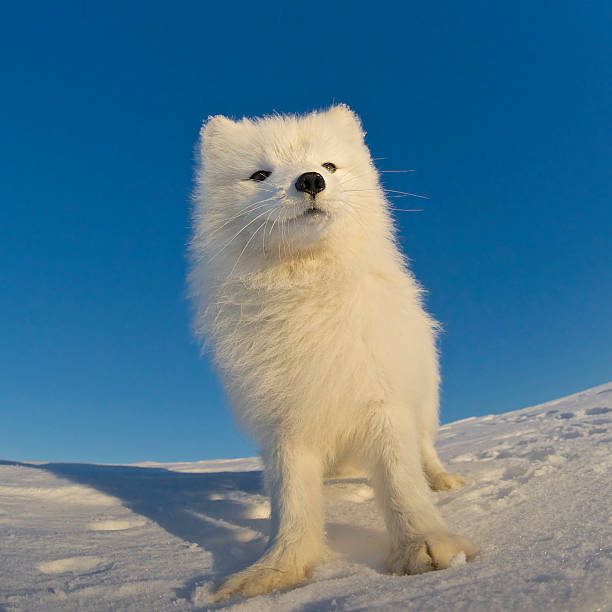arcticfox: (229, 123, 367, 304)
